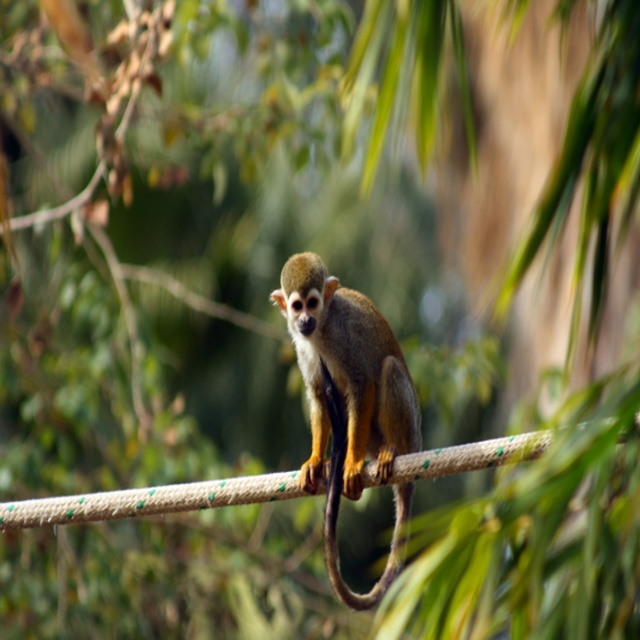Monkey: (268, 255, 423, 611)
